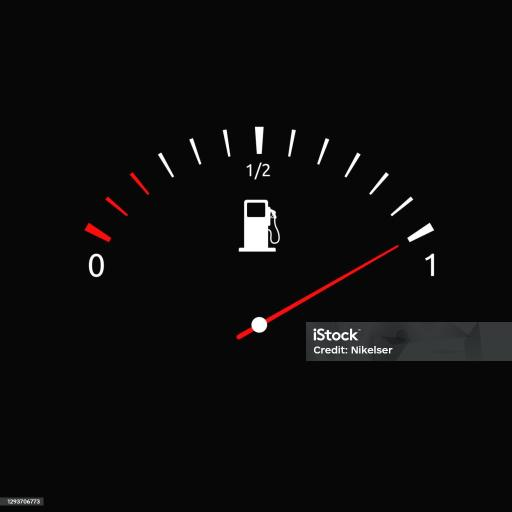empty: (84, 252, 110, 280)
fuel_icon: (238, 193, 286, 258)
full: (424, 254, 446, 284)
guage_area: (74, 105, 453, 363)
needle_center: (244, 310, 275, 340)
needle_tip: (388, 240, 404, 260)
